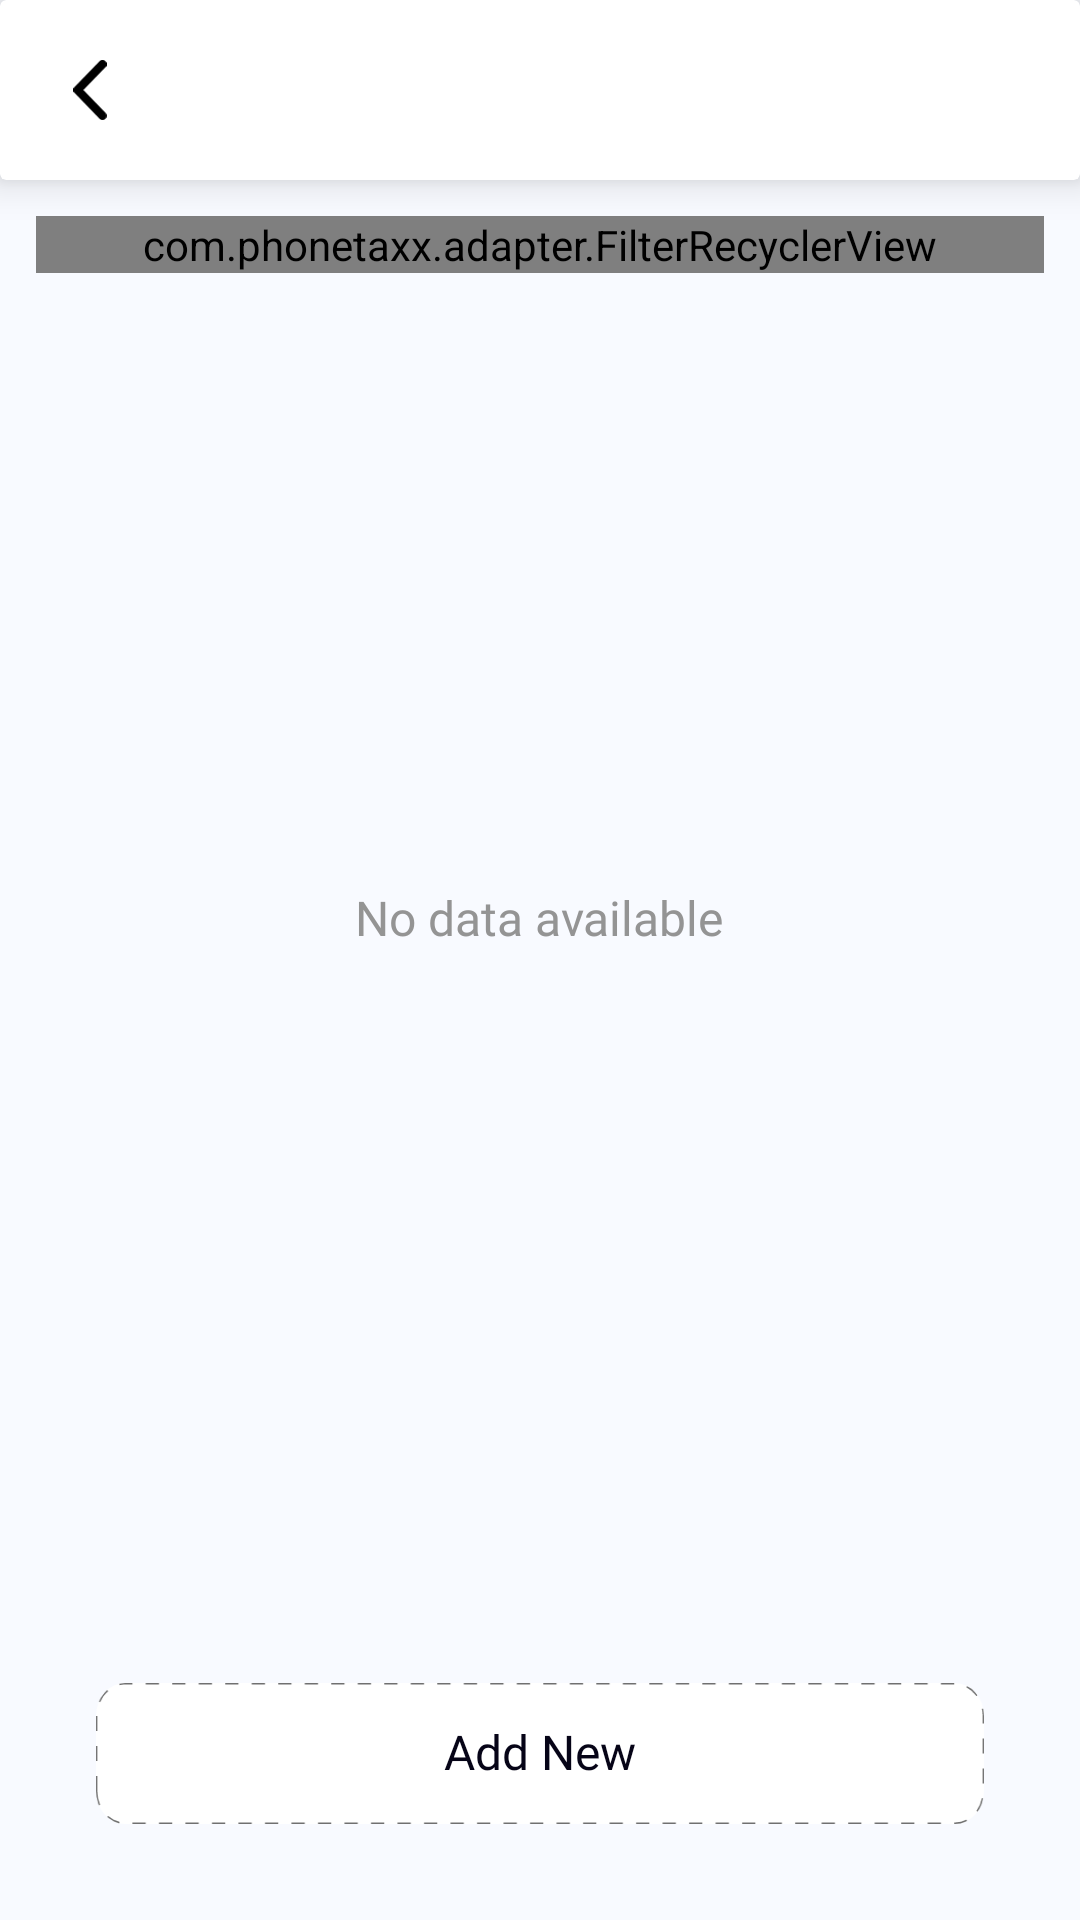

Icon click points for this 1080 × 1920 phone screenshot, format (x=x, y=y):
back: (x=90, y=90)
